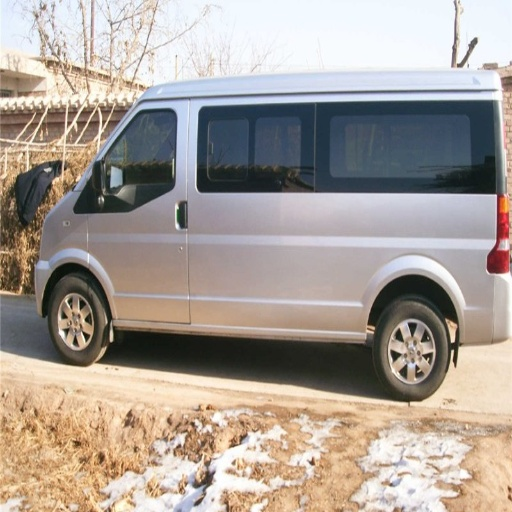back_left_door: (210, 106, 287, 188)
back_left_light: (486, 196, 510, 273)
trunk: (315, 235, 508, 338), (410, 197, 486, 227)
